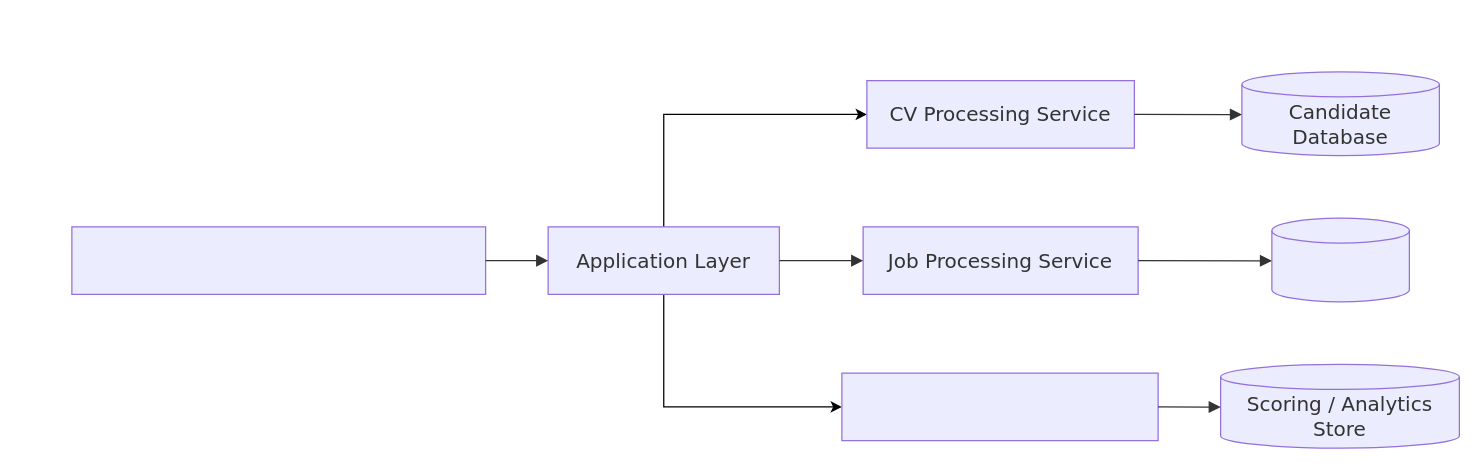
The diagram is 1481 pixels wide and 470 high, and some of its shapes have lost their labels. The centre of each missing label's shape, as x and y in pixels:
"Job Database" goes at [1340,259].
"Matching & Ranking Engine" goes at [999,406].
"Recruiter / Hiring Manager Dashboard" goes at [278,260].
